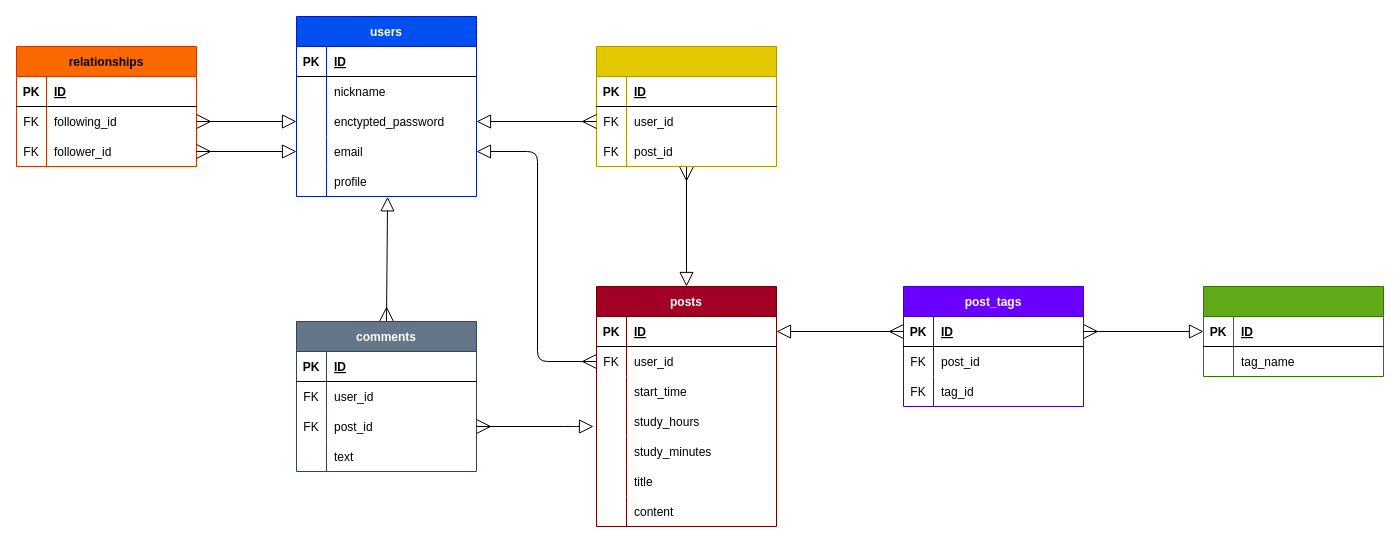
Some shapes in this 1400 by 543 pixel diagram are drawn without their labels. Each missing label, with the box of its shape:
favorites: (596, 46, 776, 166)
tags: (1202, 286, 1384, 376)
